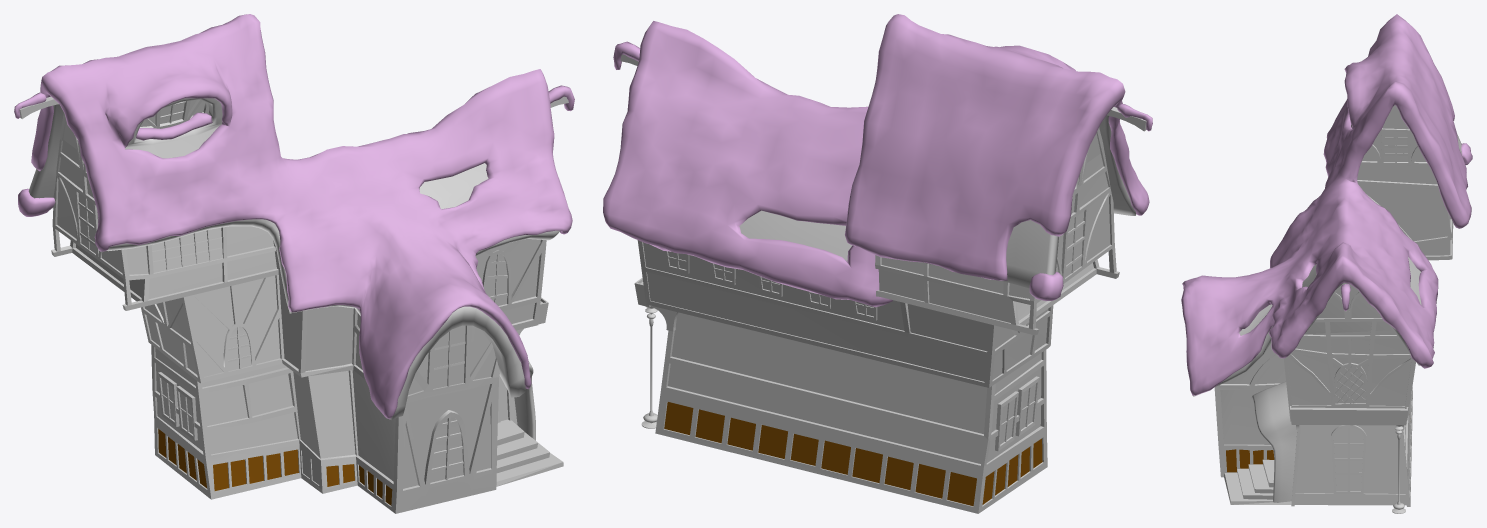
Rendered from Pony_House_04.fbx.
3 renders of one model, left to right at view 1: azimuth 30°, elevation 25°; view 2: azimuth 150°, elevation 25°; view 3: azimuth 270°, elevation 25°, orthographic. The views are drawn at different scales.
Parts seen in each view (by area): view 1: House_04; view 2: House_04; view 3: House_04.
Part boxes in pixels (left/top/right/bottom): House_04: left=14, top=14, right=574, bottom=513; House_04: left=603, top=14, right=1152, bottom=513; House_04: left=1181, top=14, right=1472, bottom=513.
Bounding box in the file's own units: 6251 × 4874 × 3781.
